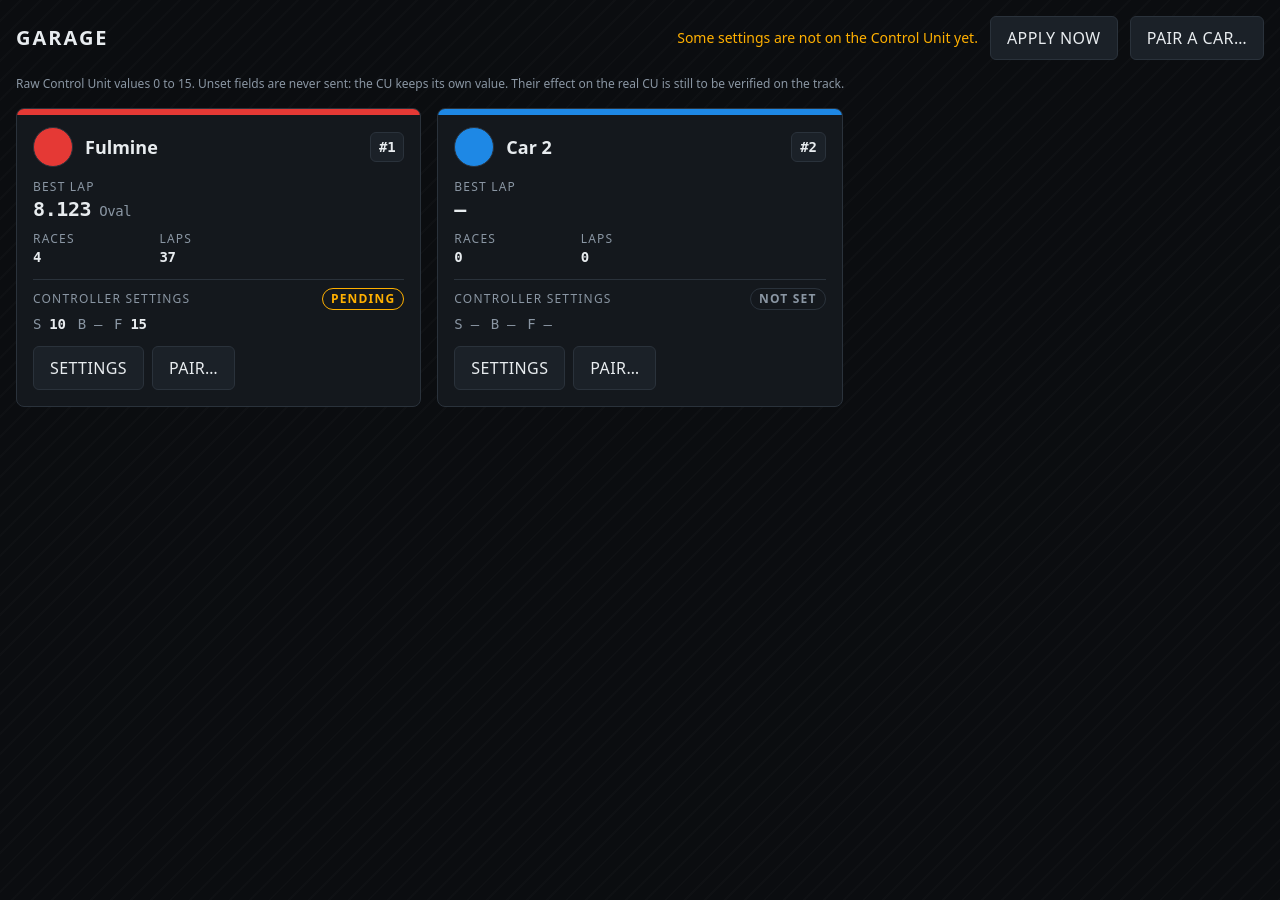
Scenario: Garage page › opens the pairing wizard and the settings editor from a card
The image size is (1280, 900).
Click the button with test id "garage-pair" below "Not set" at [615, 368], box [573, 346, 656, 390]
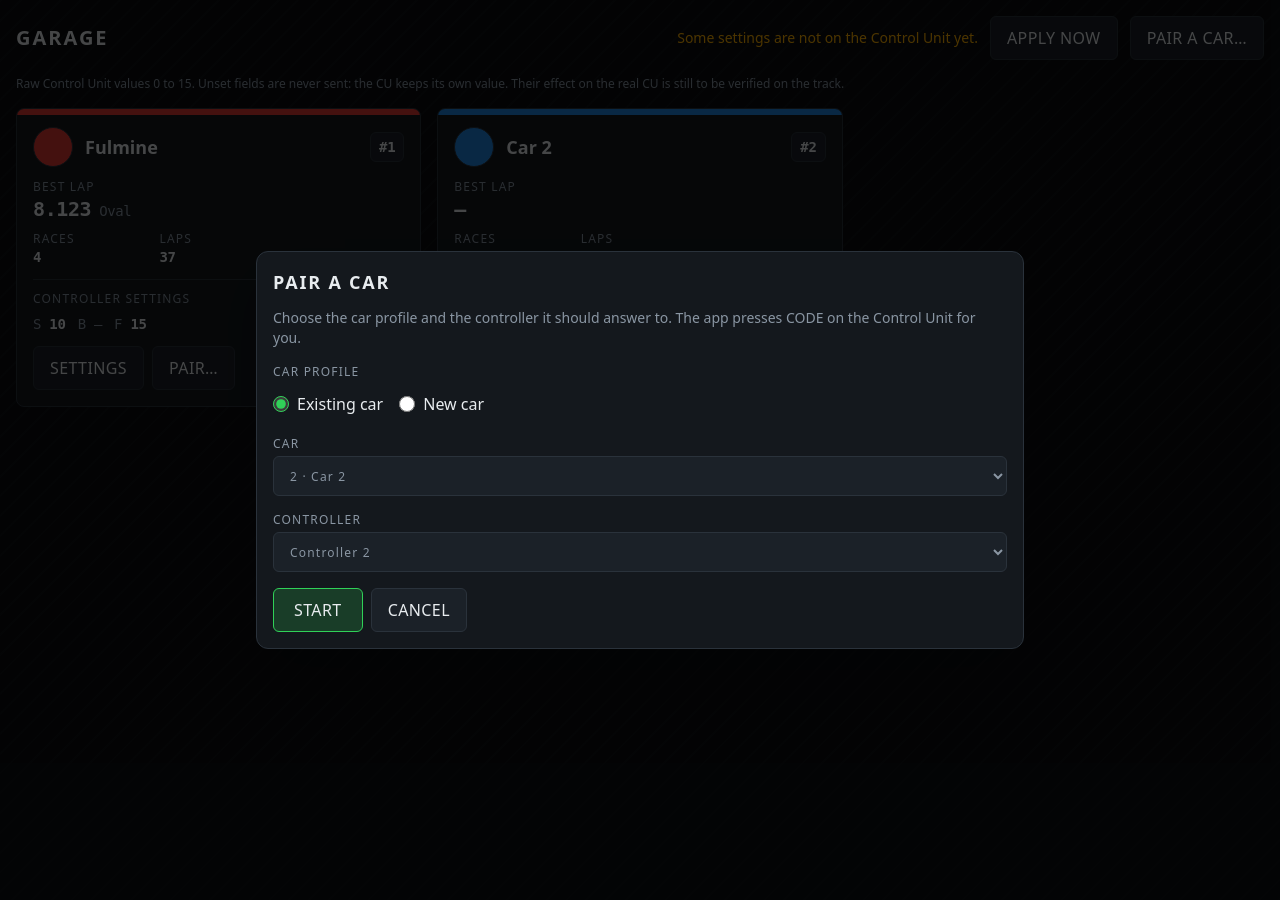
Expected: the dialog "Pair a car" is shown
Press Escape in the dialog, box [256, 251, 1024, 649]
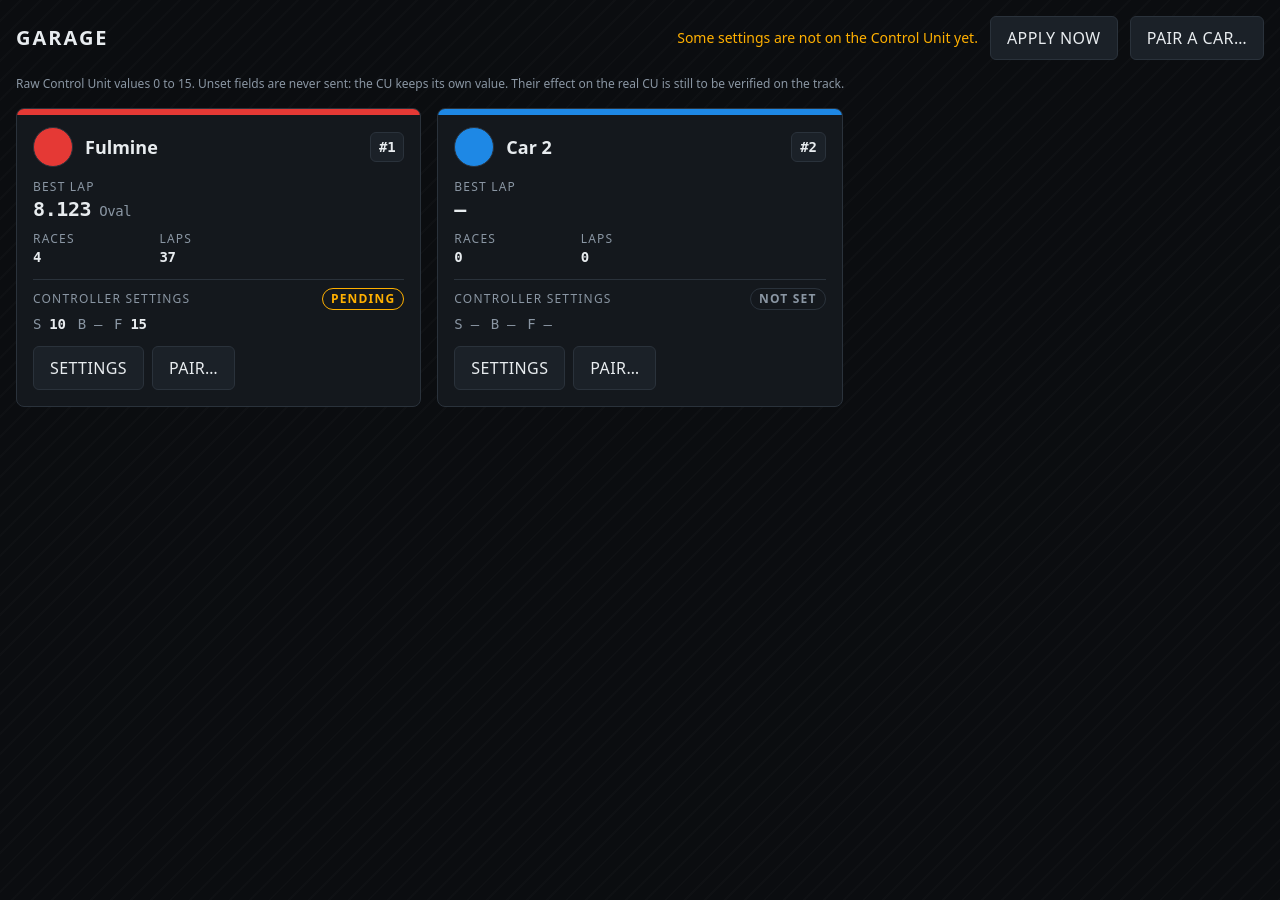
Expected: the dialog is gone
Click the button with test id "garage-edit" below "10" at [88, 368], box [33, 346, 144, 390]
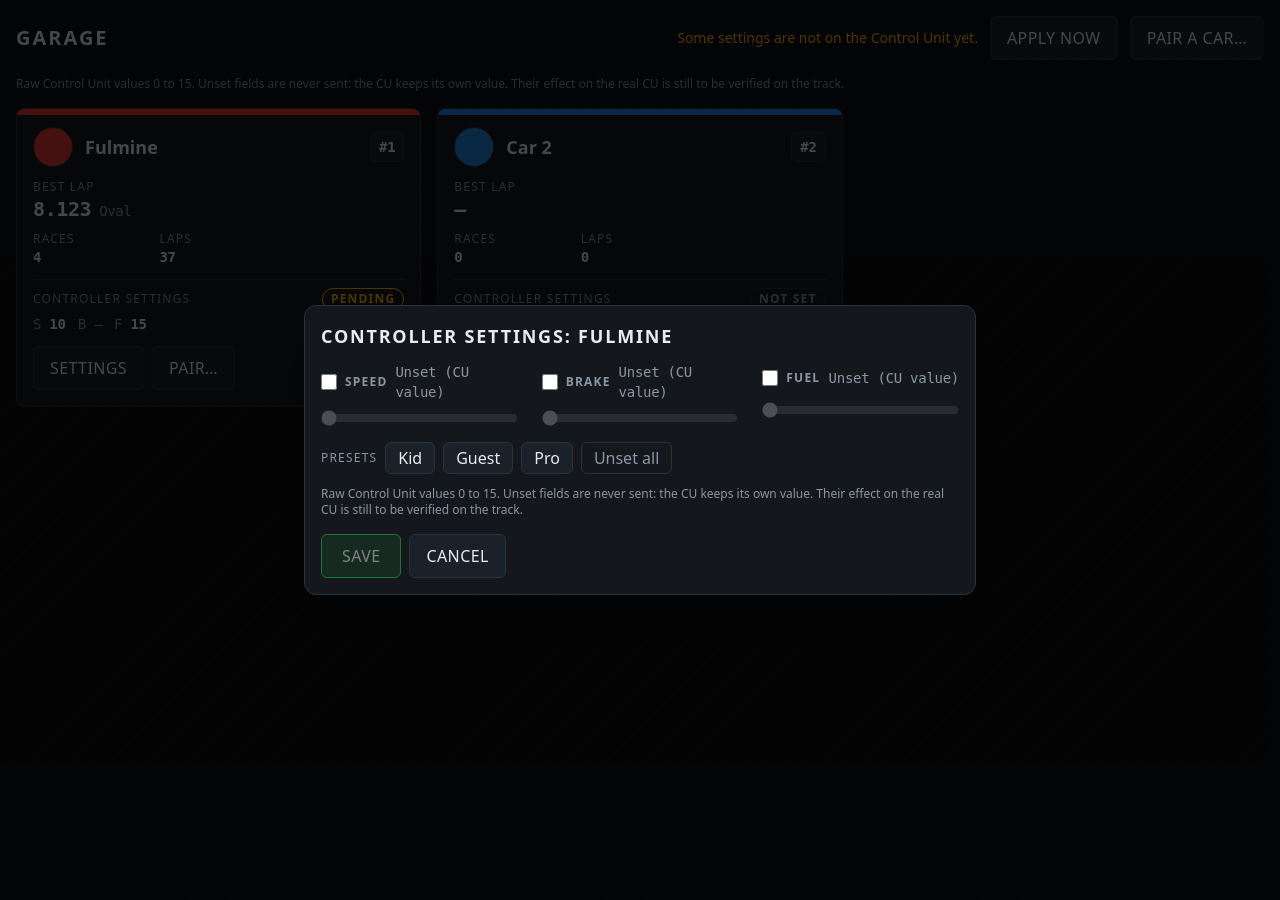
Expected: the dialog "Controller settings: Fulmine" is shown, [304, 305, 976, 595]
